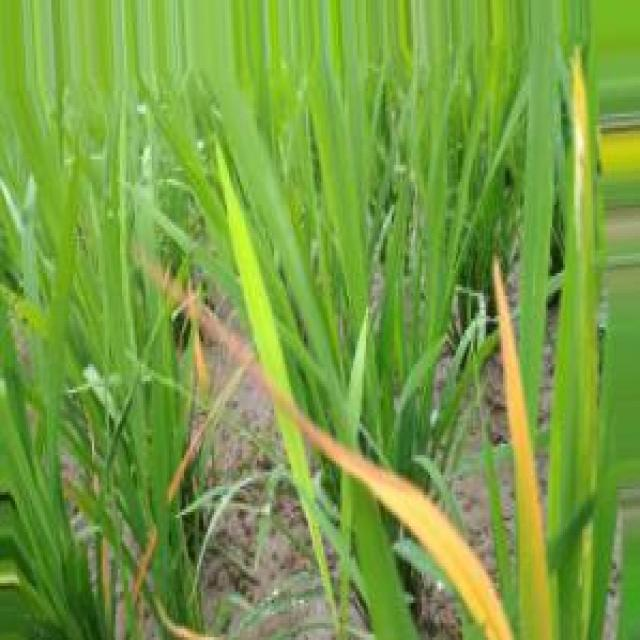Rice Tungro: (277, 395, 511, 639), (496, 256, 550, 639), (166, 420, 207, 501), (153, 597, 213, 639), (101, 537, 111, 634), (194, 322, 207, 396)
